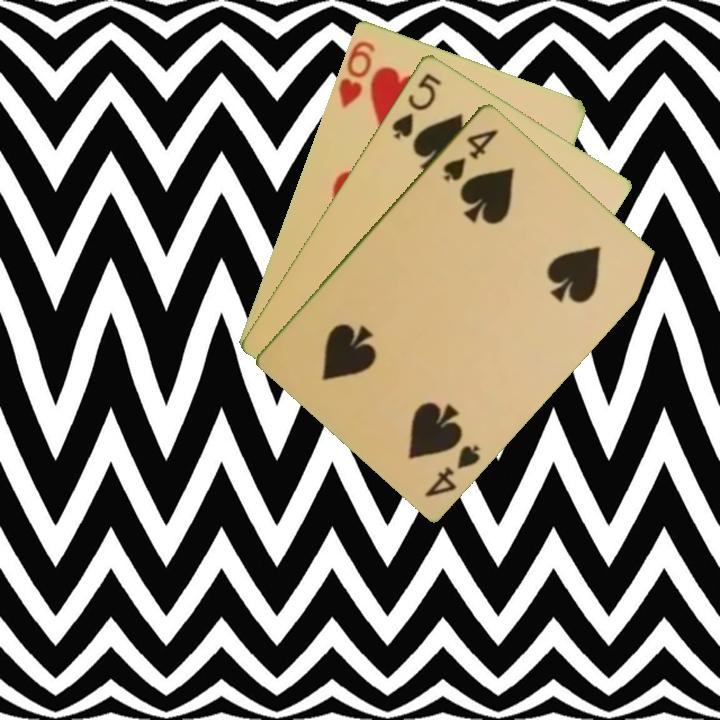4s: (421, 440, 484, 500), (439, 124, 501, 184)
5s: (388, 69, 444, 142)
6h: (334, 36, 378, 111)
